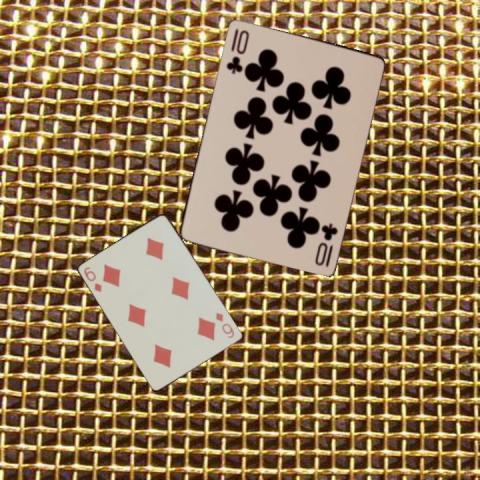10c: (222, 25, 250, 75), (311, 220, 339, 267)
6d: (213, 310, 236, 340), (82, 264, 104, 293)
